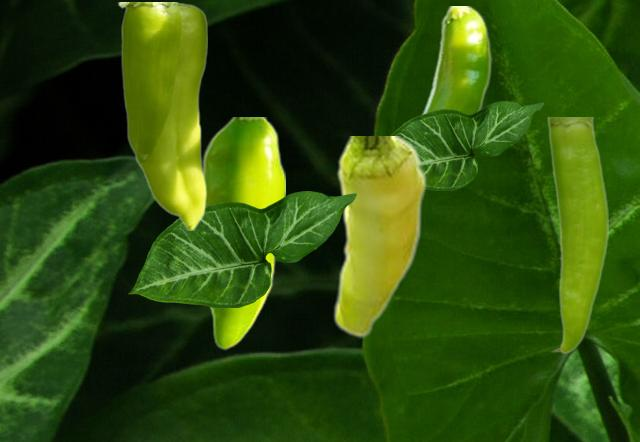green_chili: (117, 2, 206, 229), (332, 136, 426, 337), (203, 117, 284, 349), (546, 117, 607, 353), (418, 6, 491, 114)
